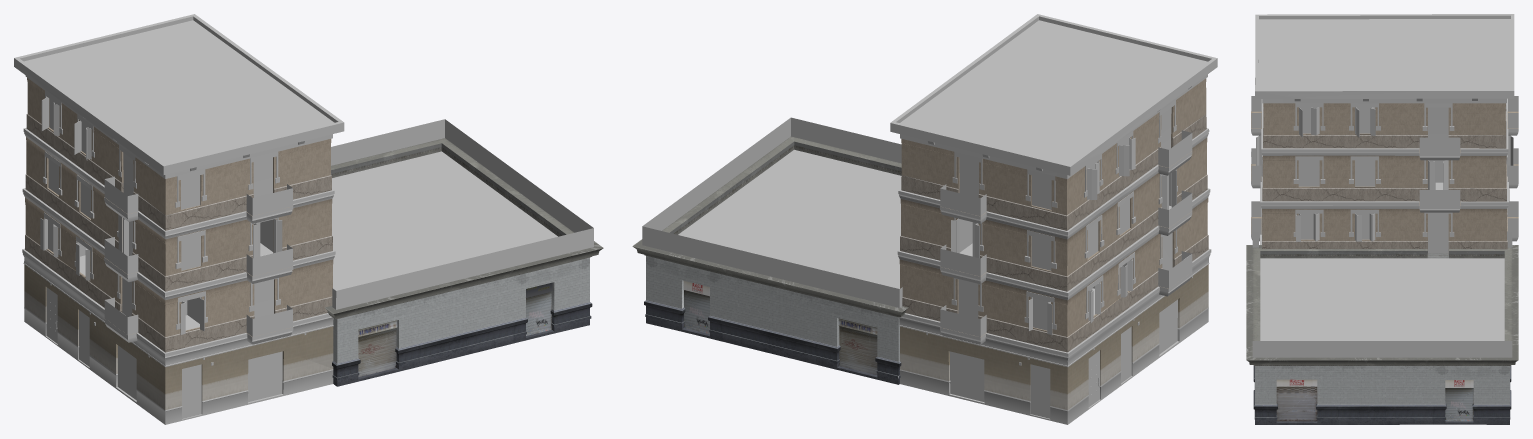
Rendered from building3.FBX.
3 renders of one model, left to right at view 1: azimuth 30°, elevation 25°; view 2: azimuth 150°, elevation 25°; view 3: azimuth 270°, elevation 25°, orthographic. The views are drawn at different scales.
Visible parts, largest first — view 1: building3b, building3, building3b_roof, building3_roof, building3_transparent, building3b_windows, building3b_interior; view 2: building3b, building3, building3b_roof, building3_roof, building3_transparent, building3b_windows, building3b_interior; view 3: building3b, building3, building3_roof, building3b_roof, building3_transparent, building3b_windows, building3b_interior.
Part boxes in pixels (x1,y1,x2,y2): building3b: (14, 14, 344, 424); building3: (325, 138, 603, 386); building3b_roof: (24, 20, 334, 163); building3_roof: (332, 151, 557, 290); building3_transparent: (104, 119, 593, 336); building3b_windows: (46, 98, 282, 402); building3b_interior: (54, 218, 273, 330); building3b: (890, 14, 1217, 424); building3: (632, 136, 908, 384); building3b_roof: (900, 20, 1207, 164); building3_roof: (678, 149, 901, 288); building3_transparent: (642, 117, 1192, 336); building3b_windows: (949, 138, 1177, 406); building3b_interior: (959, 173, 1171, 330); building3b: (1251, 14, 1518, 253); building3: (1246, 245, 1518, 424); building3_roof: (1260, 258, 1504, 340); building3b_roof: (1258, 19, 1510, 89); building3_transparent: (1251, 96, 1518, 357); building3b_windows: (1298, 107, 1375, 239); building3b_interior: (1308, 160, 1445, 239).
Size of the model in its own units: 2612 by 1489 by 1604.
